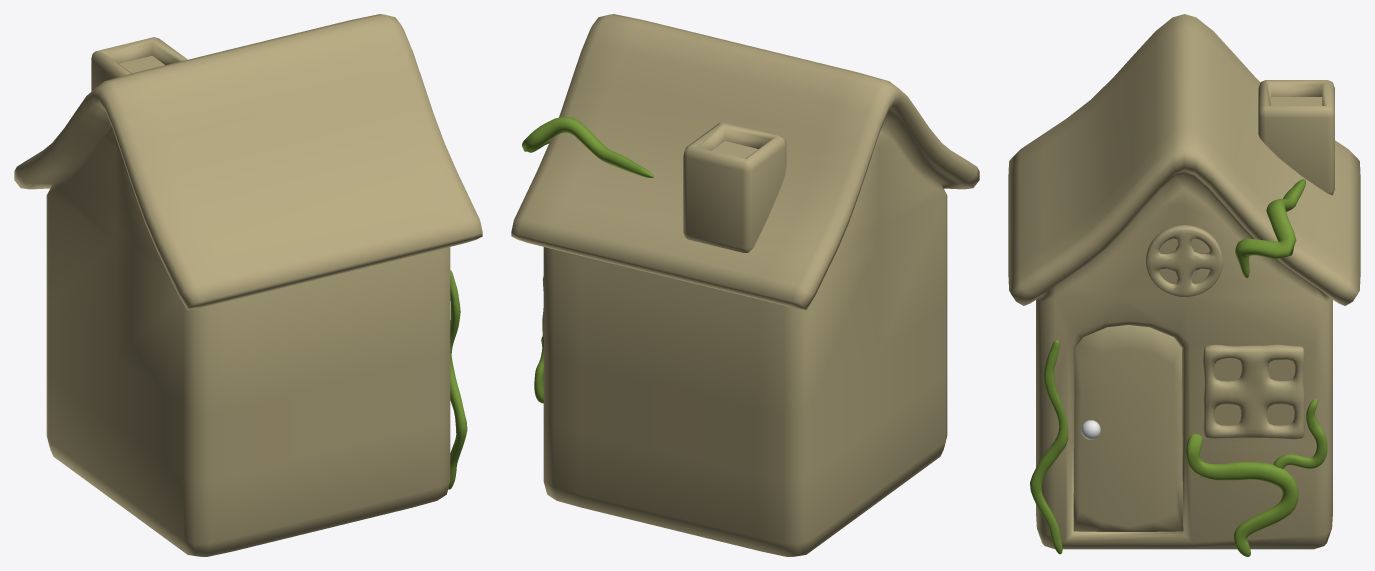
Rendered from FarmHouse.fbx.
3 views of the same model, side by side, from view 1: azimuth 30°, elevation 25°; view 2: azimuth 150°, elevation 25°; view 3: azimuth 270°, elevation 25° (orthographic). The views are drawn at different scales.
Visible parts, largest first — view 1: House, Cube, Vine; view 2: House, Cube, Vine.003; view 3: House, Door, Window, Cube, Cylinder.001, Vine.001, Vine, Vine.003, Vine.002.
Part boxes in pixels (x1=…): House: x1=14, y1=14, x2=482, y2=556; Cube: x1=91, y1=37, x2=187, y2=91; Vine: x1=448, y1=270, x2=467, y2=489; House: x1=511, y1=14, x2=979, y2=556; Cube: x1=683, y1=122, x2=786, y2=252; Vine.003: x1=522, y1=116, x2=653, y2=177; House: x1=1008, y1=14, x2=1360, y2=549; Door: x1=1073, y1=325, x2=1183, y2=531; Window: x1=1203, y1=344, x2=1304, y2=439; Cube: x1=1258, y1=80, x2=1334, y2=195; Cylinder.001: x1=1146, y1=225, x2=1222, y2=297; Vine.001: x1=1186, y1=434, x2=1298, y2=556; Vine: x1=1030, y1=339, x2=1068, y2=554; Vine.003: x1=1235, y1=179, x2=1305, y2=278; Vine.002: x1=1273, y1=399, x2=1327, y2=468.
Bounding box in the file's own units: 705 × 910 × 696.
